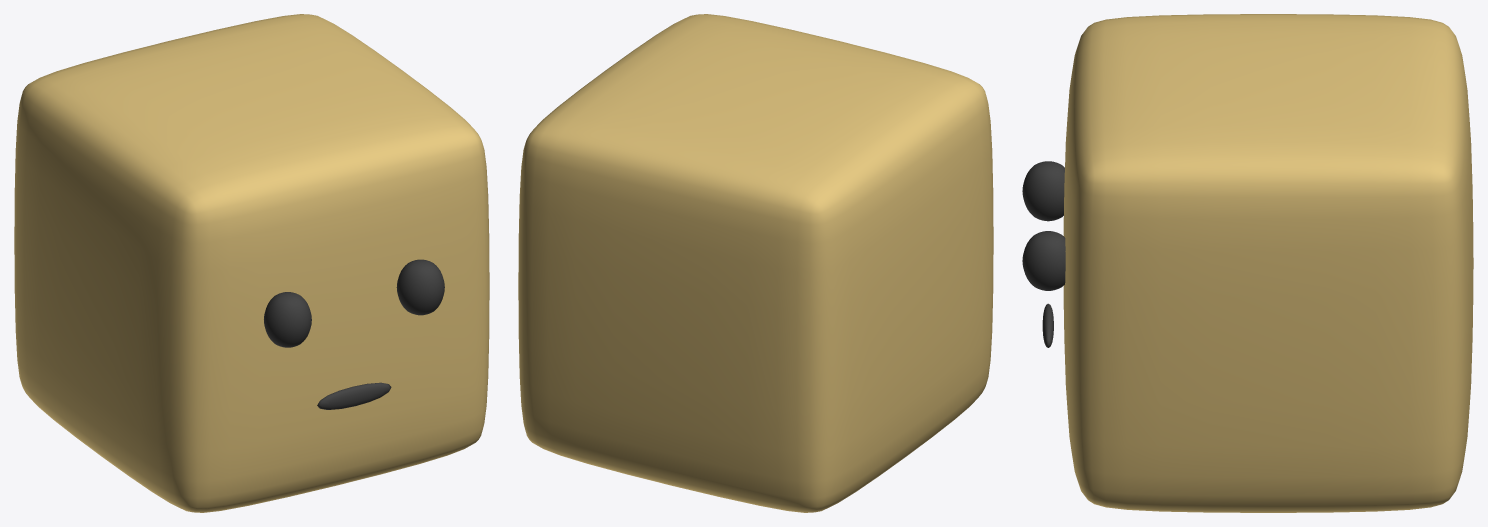
The model's file is npc_breadwise.glb.
The picture shows the model from 3 angles, left to right: view 1: azimuth 30°, elevation 25°; view 2: azimuth 150°, elevation 25°; view 3: azimuth 270°, elevation 25°; orthographic projection. The views are drawn at different scales.
Parts seen in each view (by area): view 1: npc_breadwise; view 2: npc_breadwise; view 3: npc_breadwise.
Boxes of the visible parts, box(x1,y1,x2,y2) form: npc_breadwise: box(14, 14, 489, 512); npc_breadwise: box(518, 14, 993, 512); npc_breadwise: box(1022, 14, 1473, 512).
Size of the model in its own units: 0.2981 by 0.2981 by 0.3278.
